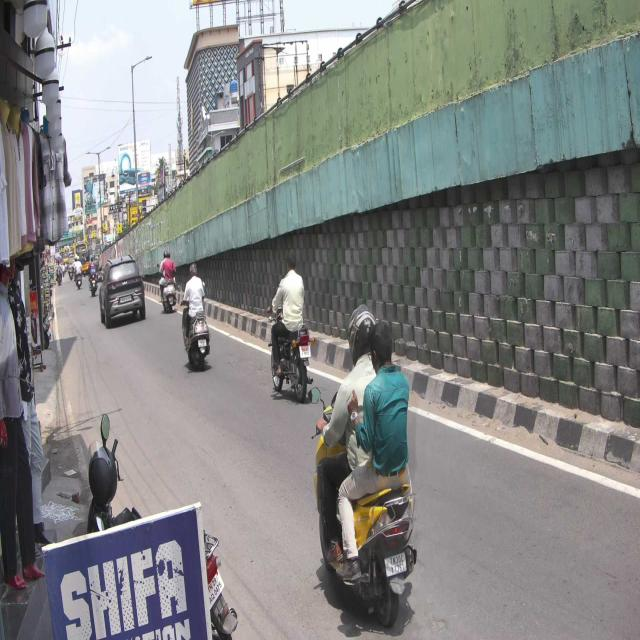double_rider: (314, 300, 419, 633)
single_rider: (266, 252, 312, 402)
